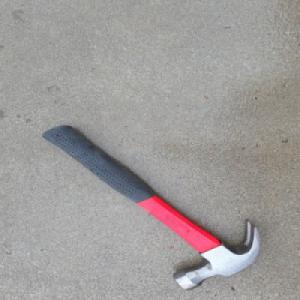Hammer: (40, 124, 259, 277)
